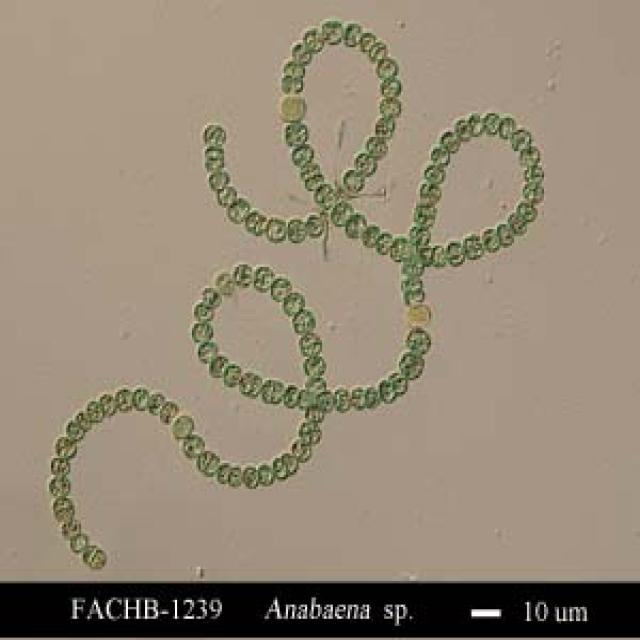Blue Green Algae: (406, 328, 436, 357), (294, 331, 328, 356), (396, 352, 426, 380), (185, 321, 218, 345), (301, 354, 328, 383), (378, 94, 403, 123), (461, 231, 486, 260), (414, 179, 446, 201), (284, 118, 311, 144), (47, 501, 77, 524), (83, 543, 109, 569), (252, 262, 275, 291), (213, 267, 235, 297), (55, 430, 77, 460), (280, 290, 305, 316), (265, 215, 288, 243), (47, 475, 75, 498), (482, 224, 504, 253), (329, 200, 352, 227), (403, 224, 431, 246), (290, 142, 316, 165), (267, 276, 290, 302), (203, 165, 230, 187), (303, 26, 324, 54), (412, 201, 437, 224), (190, 300, 215, 323), (341, 168, 363, 194), (290, 309, 316, 331), (183, 432, 205, 458), (388, 371, 408, 399), (352, 151, 375, 175), (521, 177, 544, 201), (160, 399, 179, 428), (115, 388, 137, 413), (301, 210, 322, 236), (365, 134, 386, 160), (226, 196, 248, 220), (373, 113, 395, 137), (292, 40, 314, 64), (516, 198, 538, 222), (520, 144, 542, 168), (290, 439, 312, 463), (380, 78, 405, 99), (244, 205, 262, 234), (232, 262, 252, 288), (201, 123, 228, 142), (523, 160, 546, 182), (405, 286, 429, 307), (333, 385, 352, 411), (322, 21, 344, 43), (510, 128, 531, 151), (254, 463, 275, 486), (442, 130, 467, 149), (363, 388, 382, 413), (401, 272, 427, 290), (284, 54, 305, 76), (299, 158, 320, 180), (431, 146, 452, 168), (64, 420, 85, 442), (375, 59, 399, 78), (207, 354, 226, 378), (145, 392, 164, 416), (134, 385, 150, 413), (286, 218, 303, 244), (367, 38, 388, 59), (70, 531, 90, 553), (203, 286, 222, 309), (228, 465, 246, 489), (100, 392, 118, 416), (196, 340, 218, 359), (346, 213, 364, 236), (344, 21, 361, 45), (510, 210, 527, 234), (218, 182, 235, 205), (499, 114, 514, 140), (88, 399, 104, 423), (425, 166, 452, 180), (448, 238, 461, 267), (499, 222, 514, 246), (205, 142, 222, 163), (305, 170, 322, 191), (350, 385, 367, 406), (316, 390, 333, 411), (241, 371, 256, 394), (282, 385, 298, 406), (484, 111, 499, 132), (224, 366, 239, 387), (467, 111, 480, 135), (378, 378, 390, 404), (431, 241, 442, 269), (262, 380, 276, 402), (51, 458, 73, 472), (454, 118, 470, 137), (282, 453, 298, 472), (364, 222, 378, 243), (243, 465, 256, 487), (378, 229, 388, 255), (393, 234, 401, 262)
